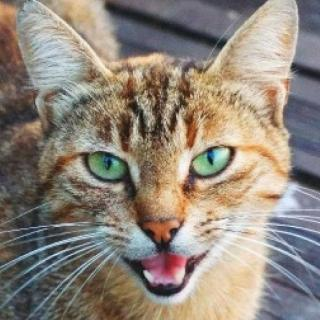cat: (15, 0, 301, 314)
nose: (136, 193, 186, 248)
